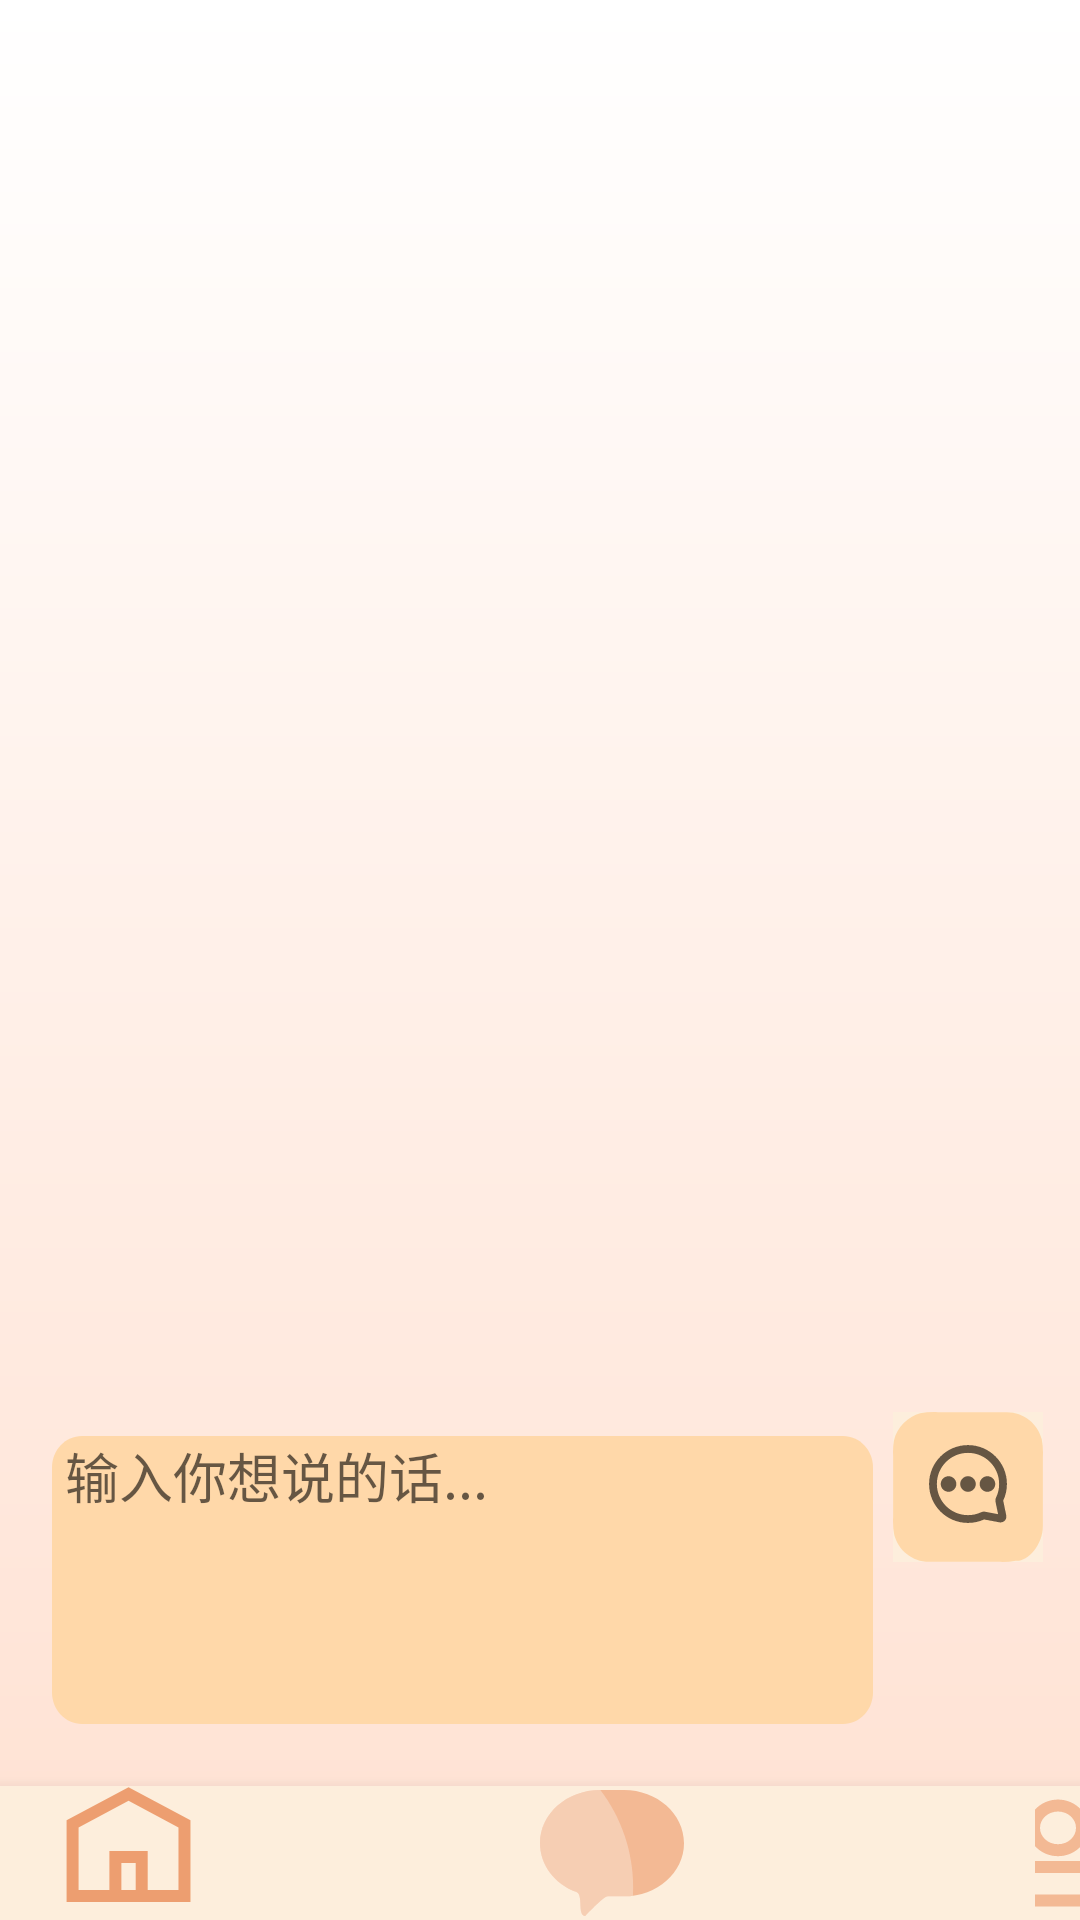

Icon bounding boxes for this 1080x1920 phone screenshot, format (x1, y1, x2, y2):
talk: (893, 1412, 1043, 1562)
主页: (66, 1787, 191, 1902)
对话: (540, 1790, 684, 1916)
